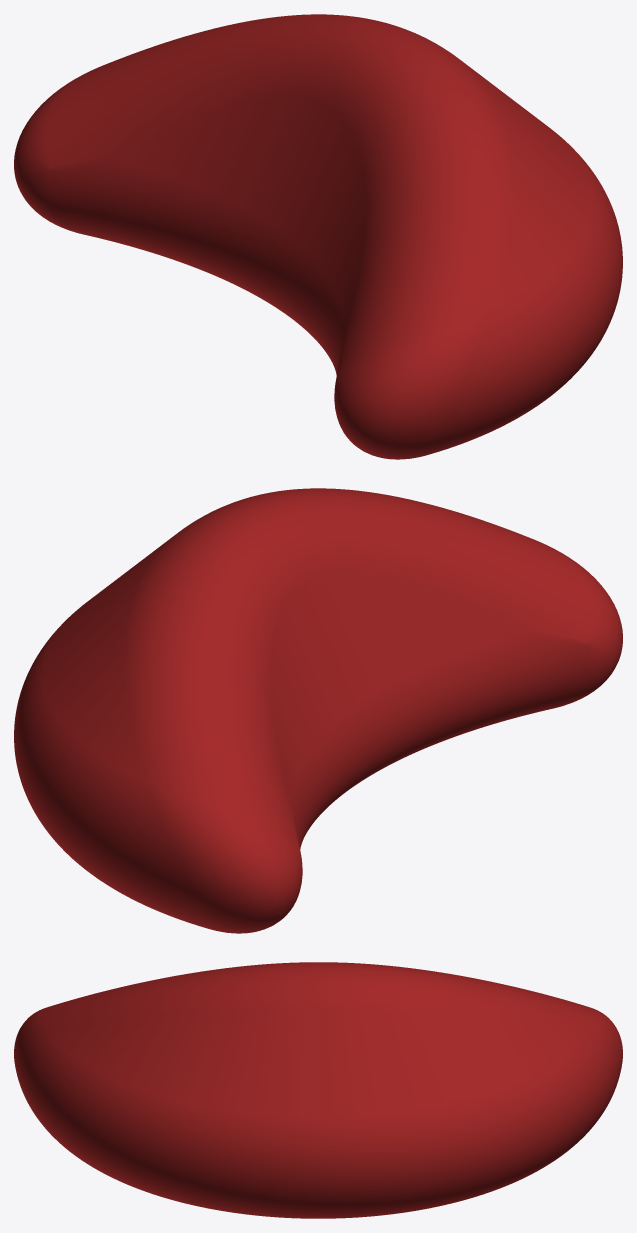
The model's file is bue.glb.
3 renders of one model, top to bottom at view 1: azimuth 30°, elevation 25°; view 2: azimuth 150°, elevation 25°; view 3: azimuth 270°, elevation 25°, orthographic. The views are drawn at different scales.
Parts seen in each view (by area): view 1: model_0; view 2: model_0; view 3: model_0.
Boxes of the visible parts, x1,y1,x2,y2 form: model_0: [14, 14, 622, 459]; model_0: [14, 488, 622, 933]; model_0: [14, 962, 622, 1218].
Size of the model in its own units: 42.68 by 27.7 by 72.97.
Materials: 1 (1 with a texture image).
